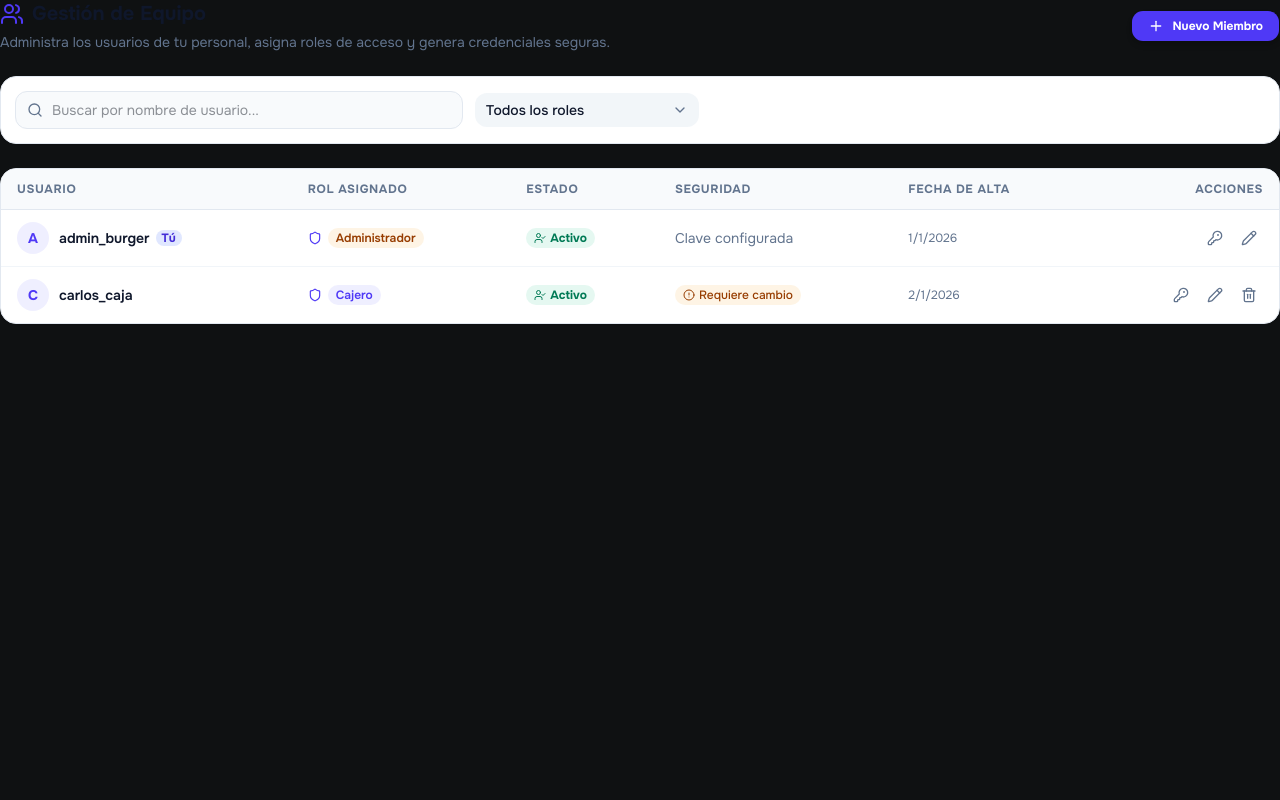
it: TeamManager Component (TDD) › falls back to the permission areas when a role has no description
Check: the text "carlos_caja" is shown, box [59,285,133,305]
Click the button "Nuevo Miembro" at (1206, 26), box [1131,10,1279,42]
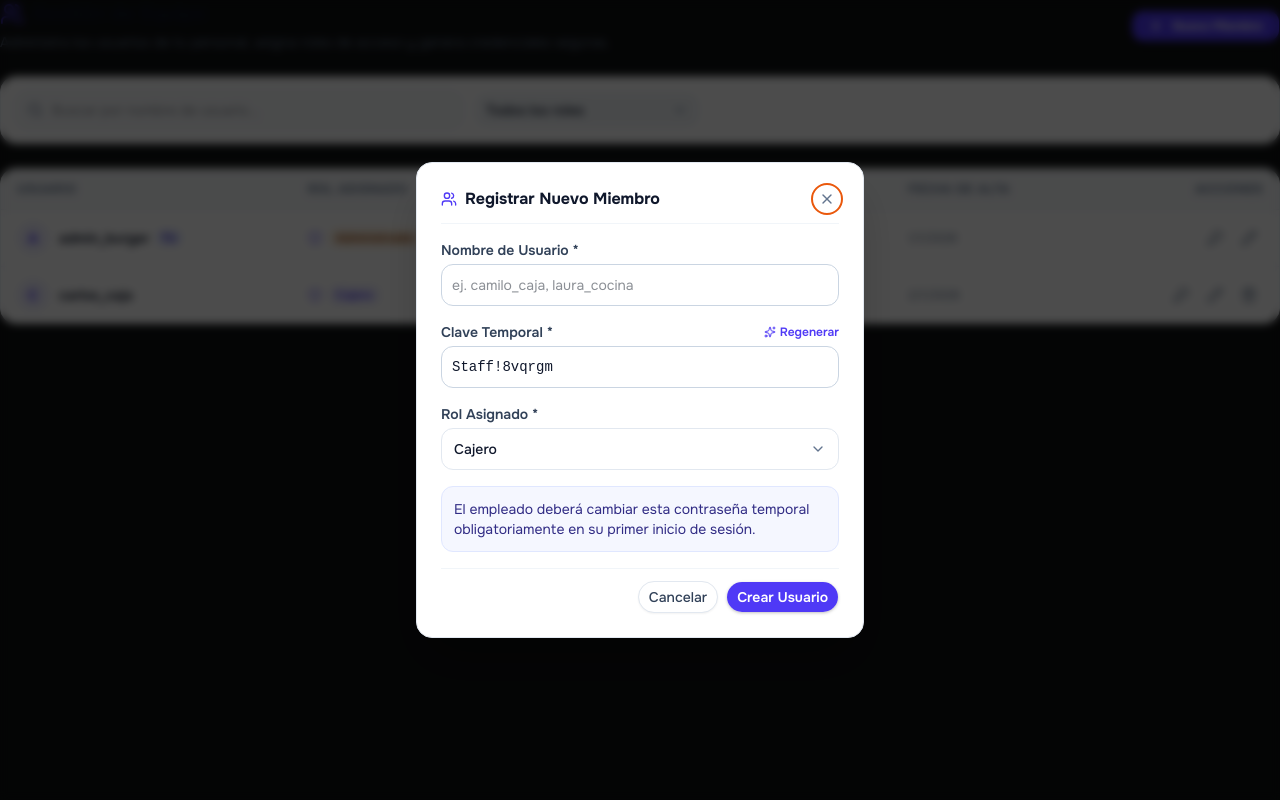
Click the button with test id "create-role-select-trigger" at (475, 449), box [441,428,839,470]
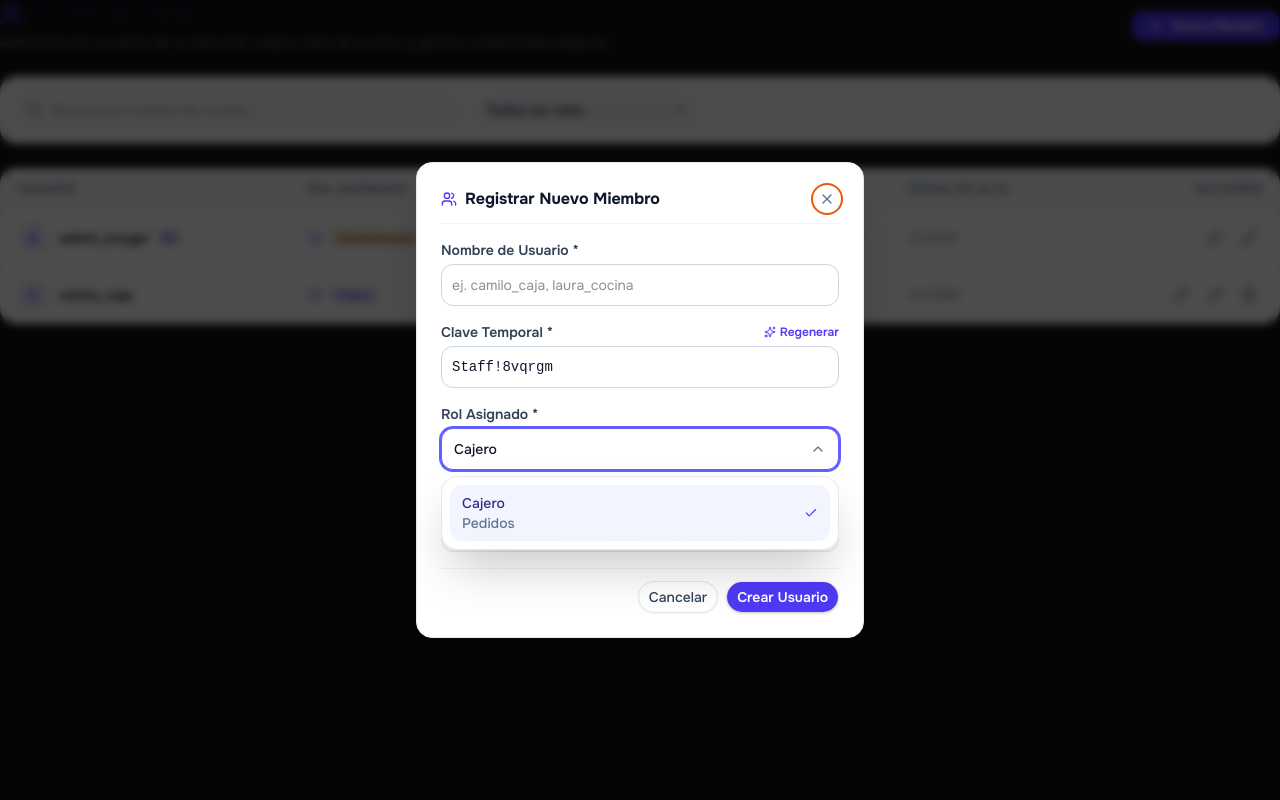
Check: the element with test id "create-role-select-menu" shows "Pedidos", box [450,485,830,541]
